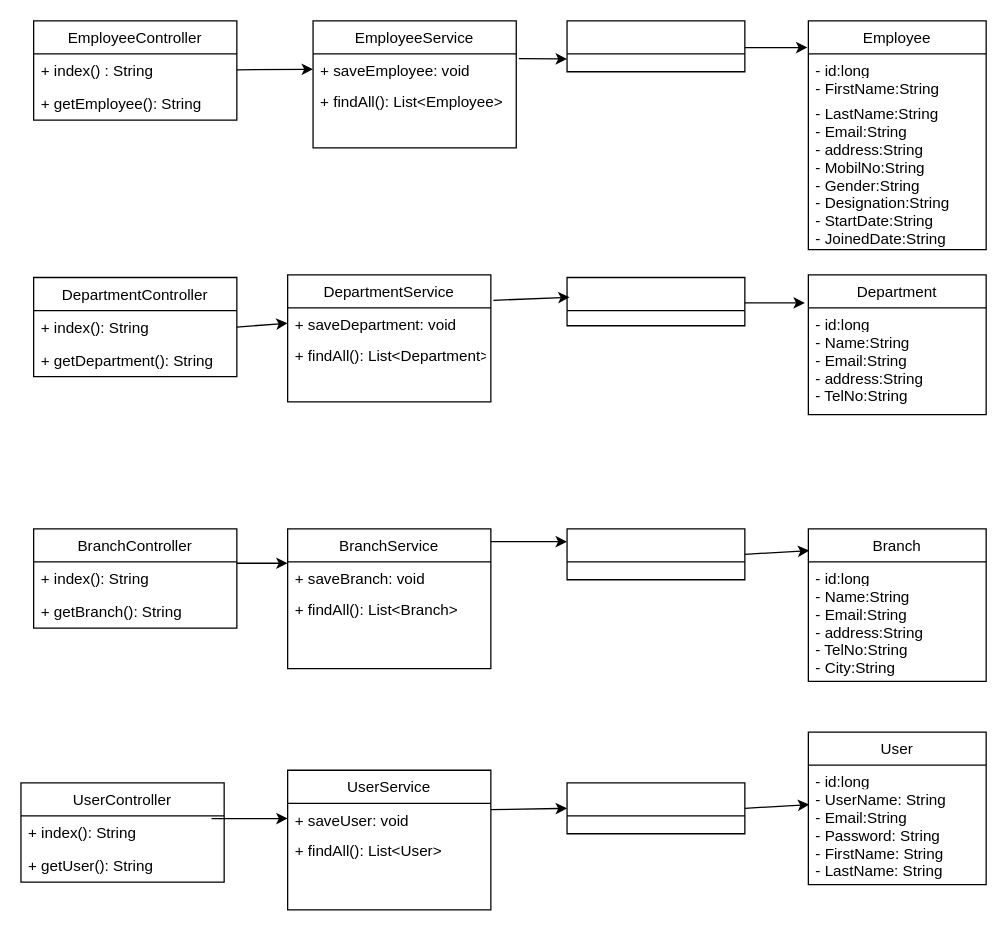
This 1007x931 diagram has some shape labels left out. Each missing label, with the centre of its shape:
BranchRepository: the point at 655,554
DepartmentRepository: the point at 655,301
EmployeeRepository: the point at 655,46
UserRepository: the point at 655,808
